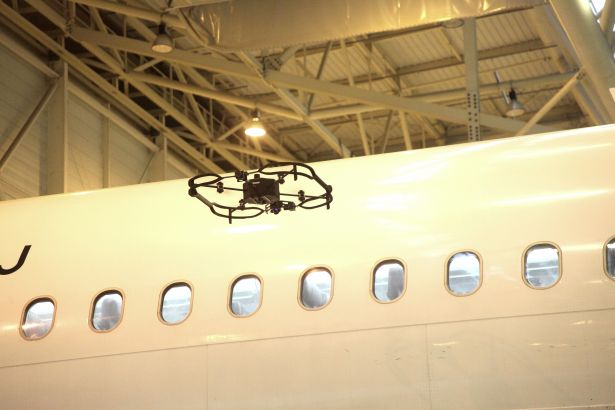drone: (186, 161, 334, 227)
